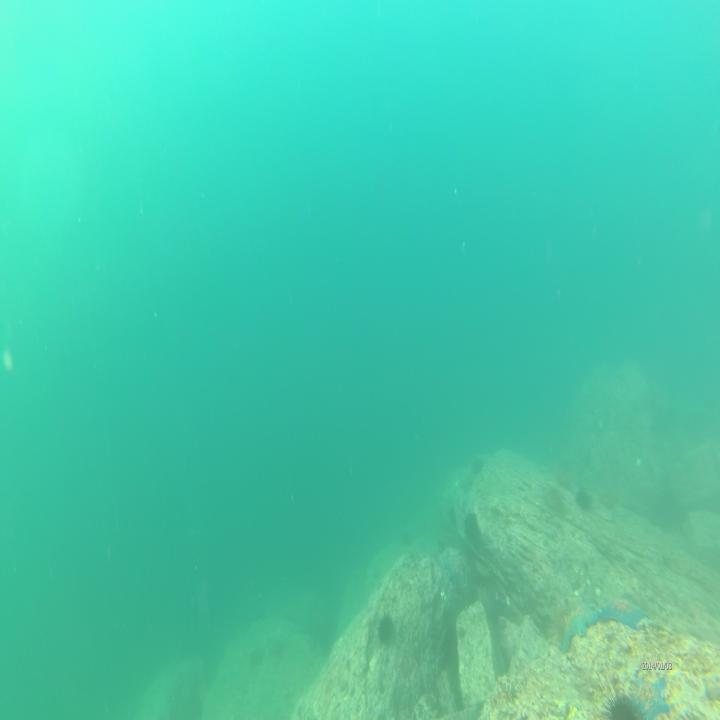echinus: (600, 685, 648, 720), (373, 607, 398, 650), (542, 482, 564, 517), (461, 508, 481, 544), (572, 484, 593, 516), (266, 632, 286, 663), (456, 476, 473, 506), (398, 526, 415, 552), (248, 644, 264, 670), (470, 455, 483, 478)
starfish: (562, 600, 600, 655), (629, 672, 671, 720), (598, 594, 647, 633)
